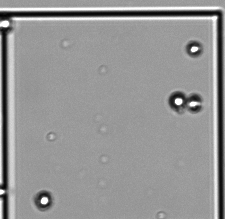Living Cell: (35, 190, 52, 209), (185, 94, 202, 113), (168, 91, 185, 109), (185, 41, 203, 56), (1, 17, 12, 29)
